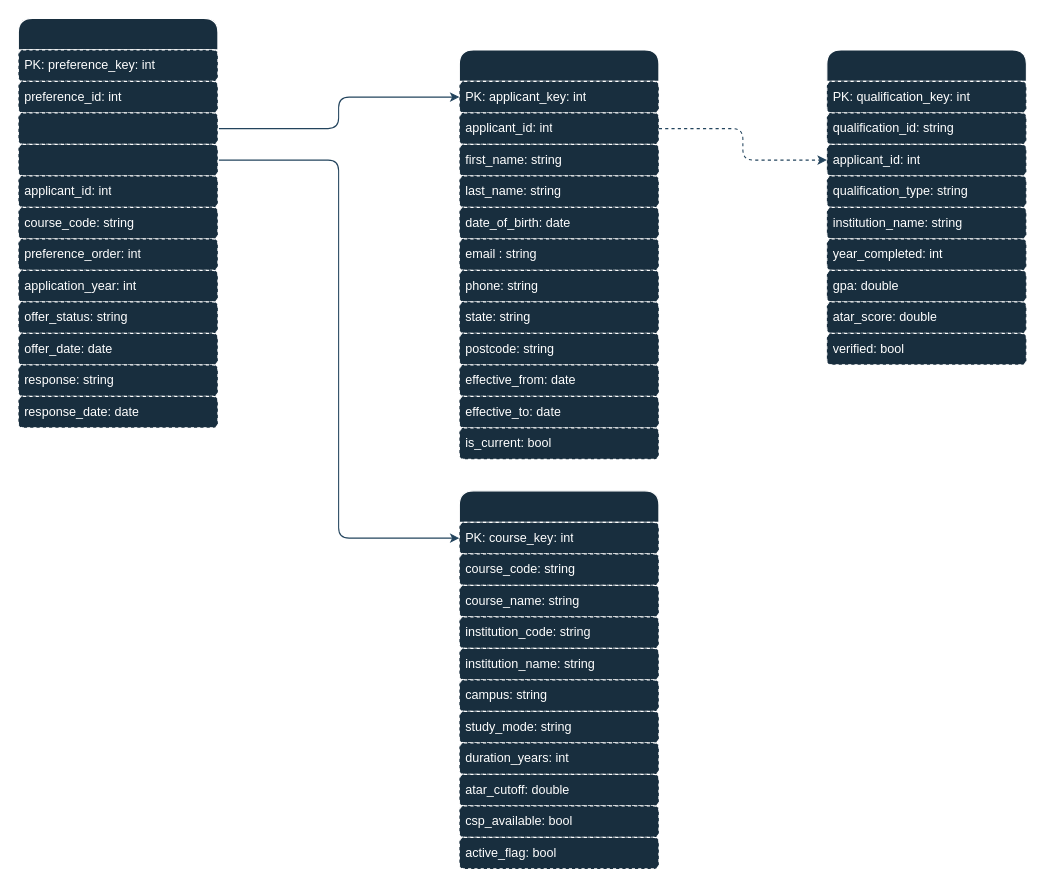
The diagram is 1045 pixels wide and 887 high, and some of its shapes have lost their labels. Each missing label, with the box of its shape:
dim_applicant: (458, 49, 659, 459)
dim_course: (458, 490, 659, 869)
dim_qualification: (826, 49, 1026, 365)
fact_preference: (17, 17, 218, 428)
FK: applicant_key: int: (17, 112, 218, 144)
FK: course_key: int: (17, 143, 218, 176)
